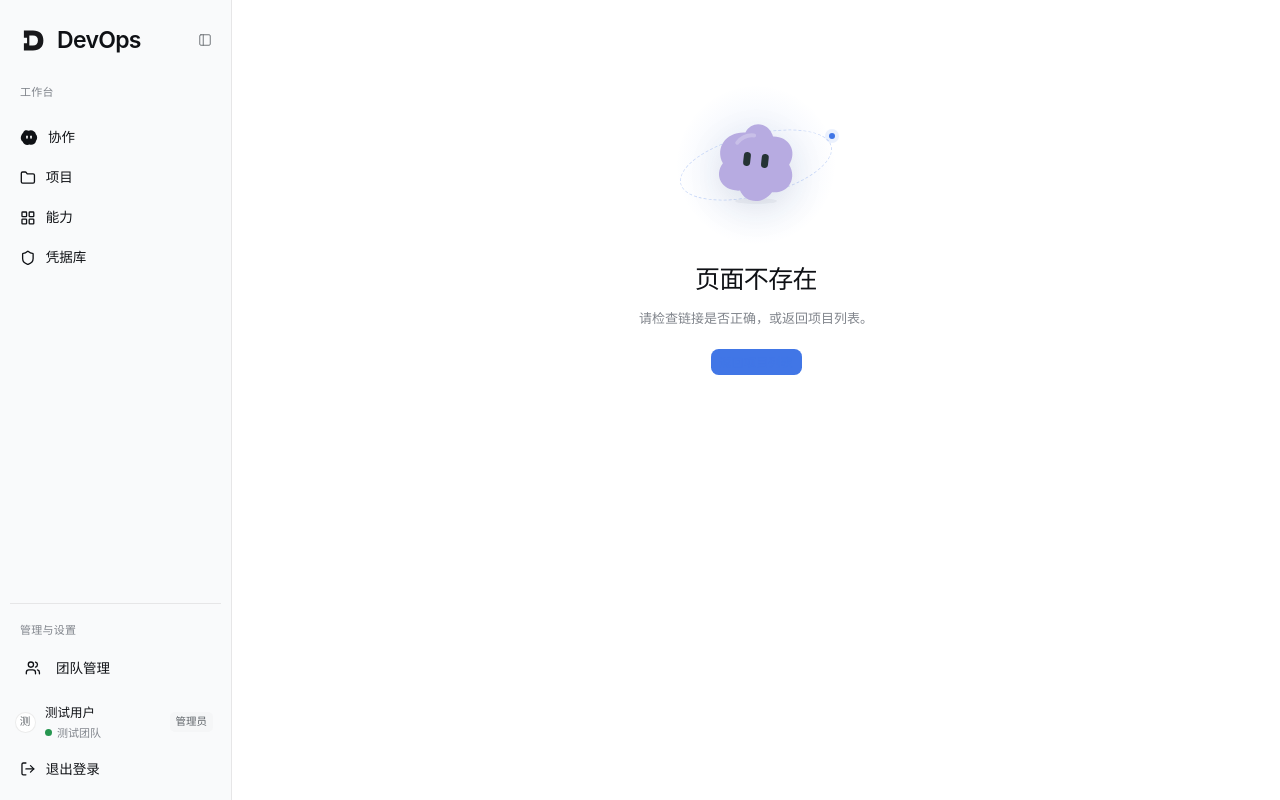
Test: 工作区路由与数据状态 › 未知地址显示 404 并能回到工作台
This screenshot has width=1280, height=800.
Expected: the heading "页面不存在" is shown, [695,262,817,297]
Click the link "返回项目列表". click: (756, 362)
box: [710,348,802,376]
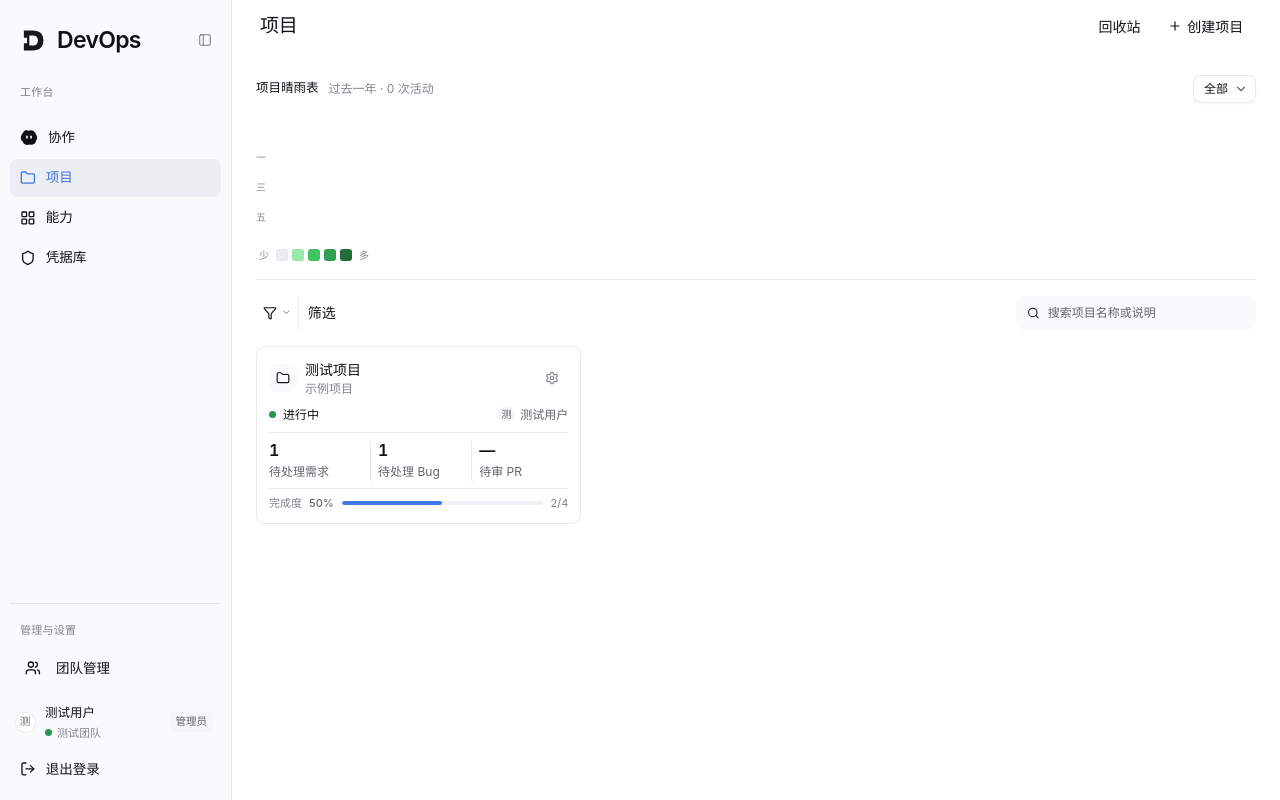
Expected: the heading "项目" is shown, [260,12,298,40]
